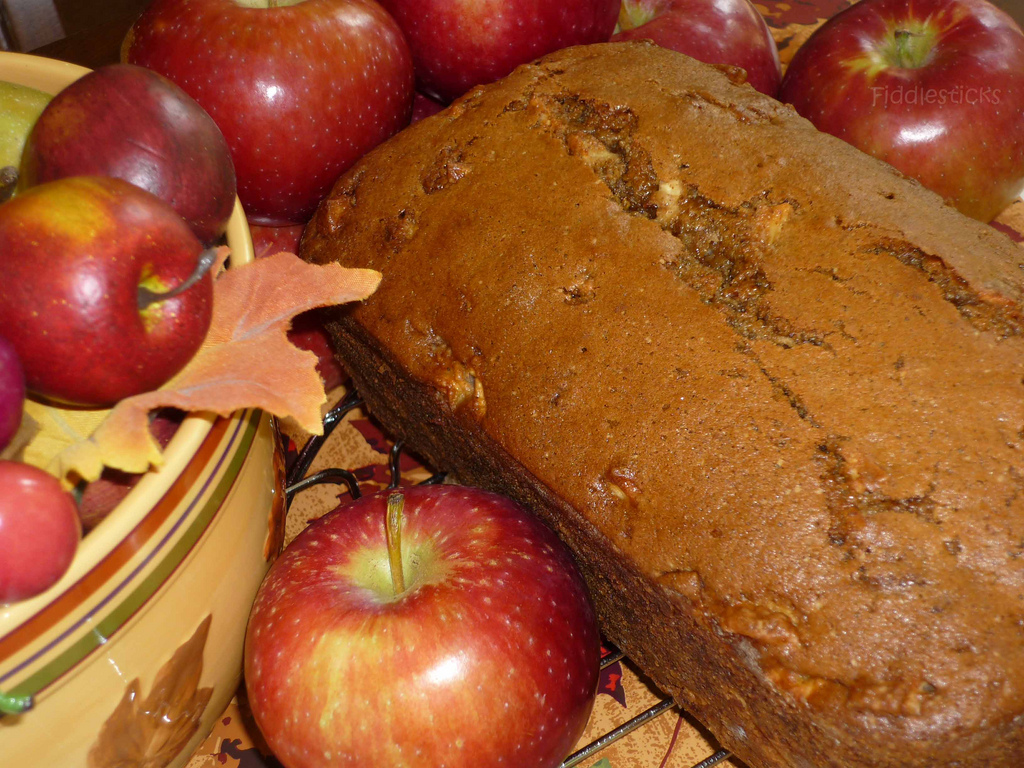slice of bread: (459, 40, 910, 661)
